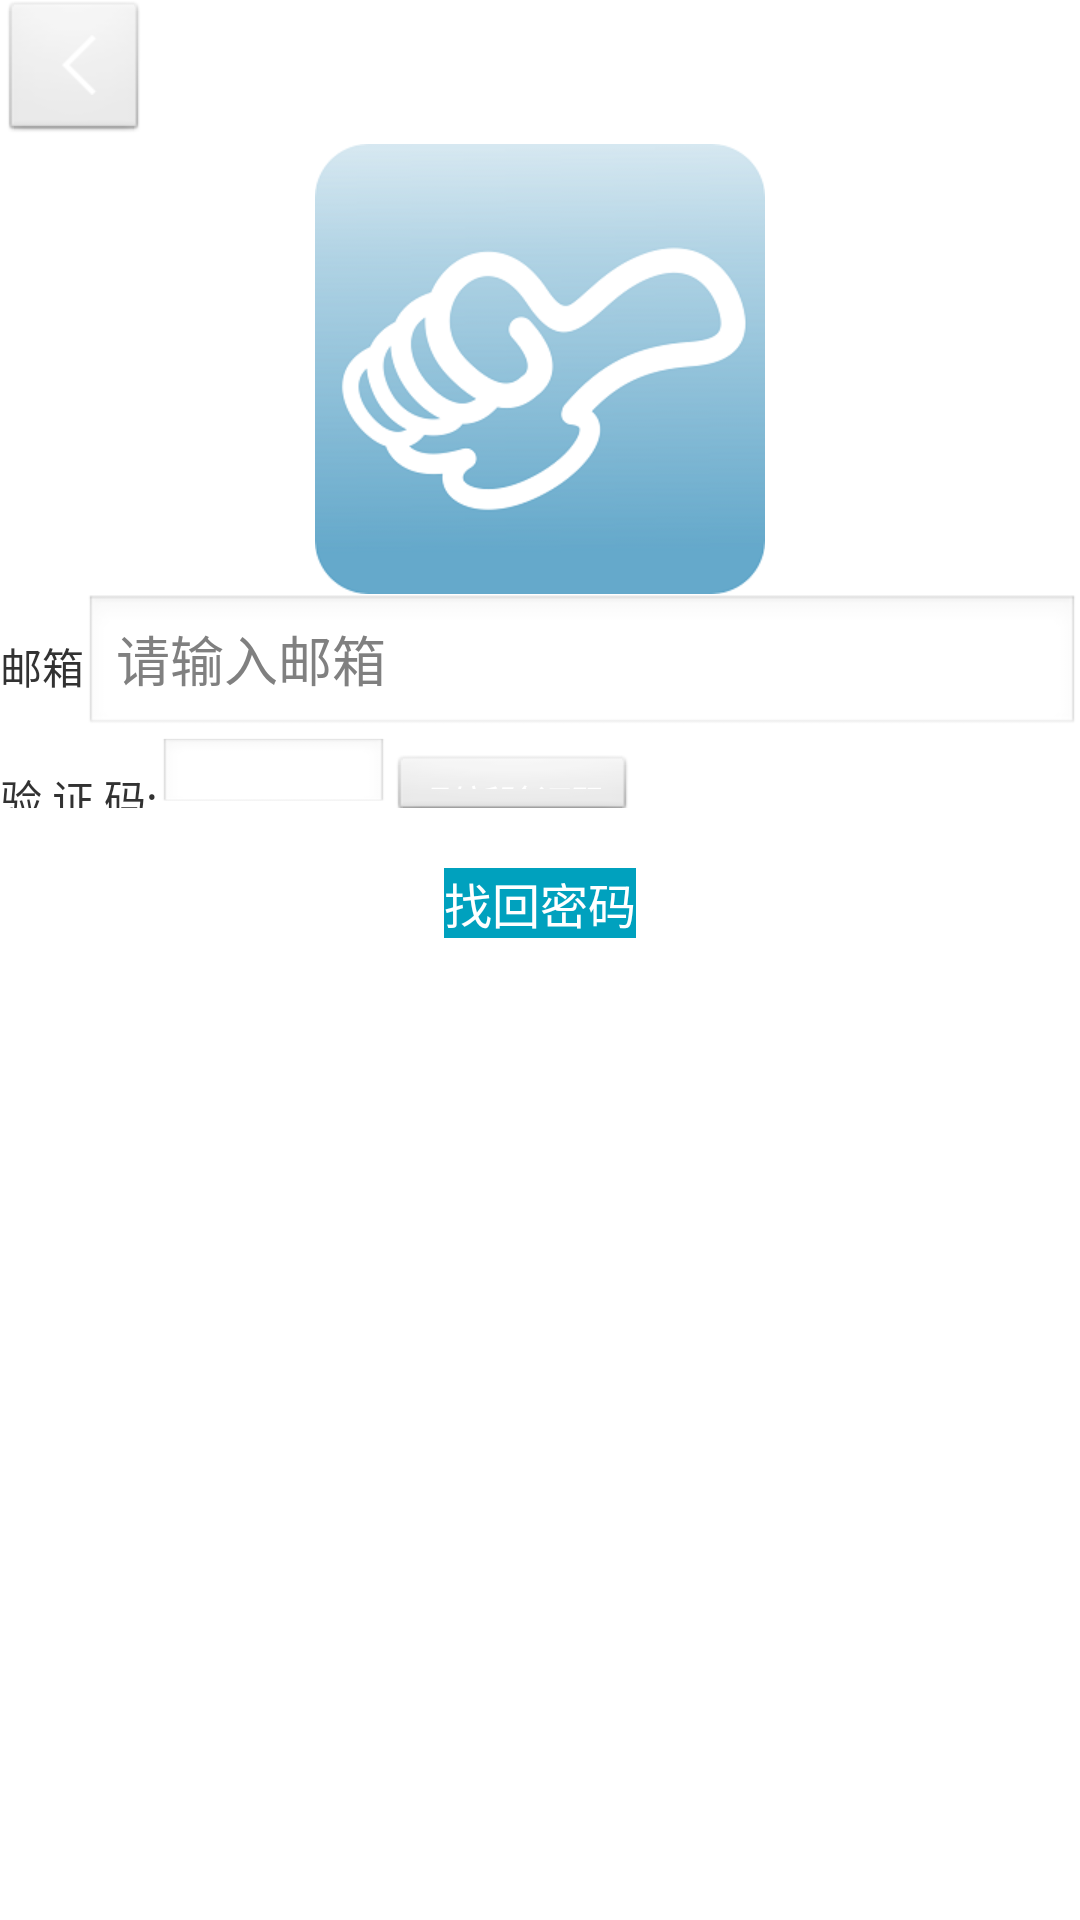

Icons on this 1080w x 1920h Android screen, each with the point to tap as (x,y):
back: (74,67)
